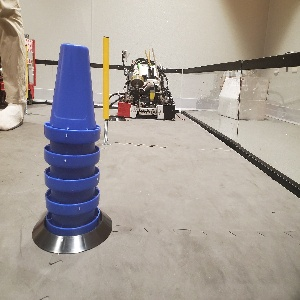Blue_5: (43, 41, 101, 235)
